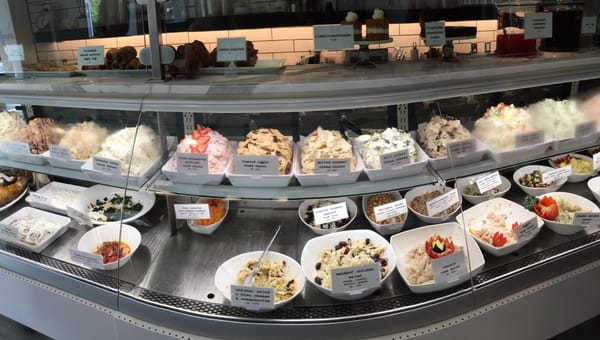sushi: (300, 229, 396, 301), (214, 250, 305, 310), (464, 196, 543, 256), (515, 165, 570, 198), (520, 168, 567, 195)
